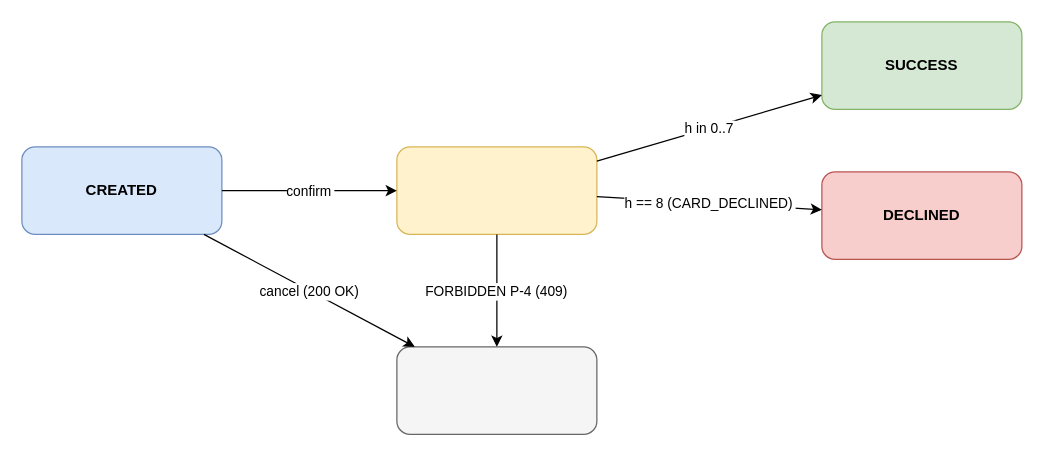
The diagram is 1044 pixels wide and 456 high, and some of its shapes have lost their labels. The shapes that lost their labels are listed below. From the top down, each one's centre as x and y in pixels, then its label:
At [496,190]: "PENDING".
At [496,390]: "CANCELED".
